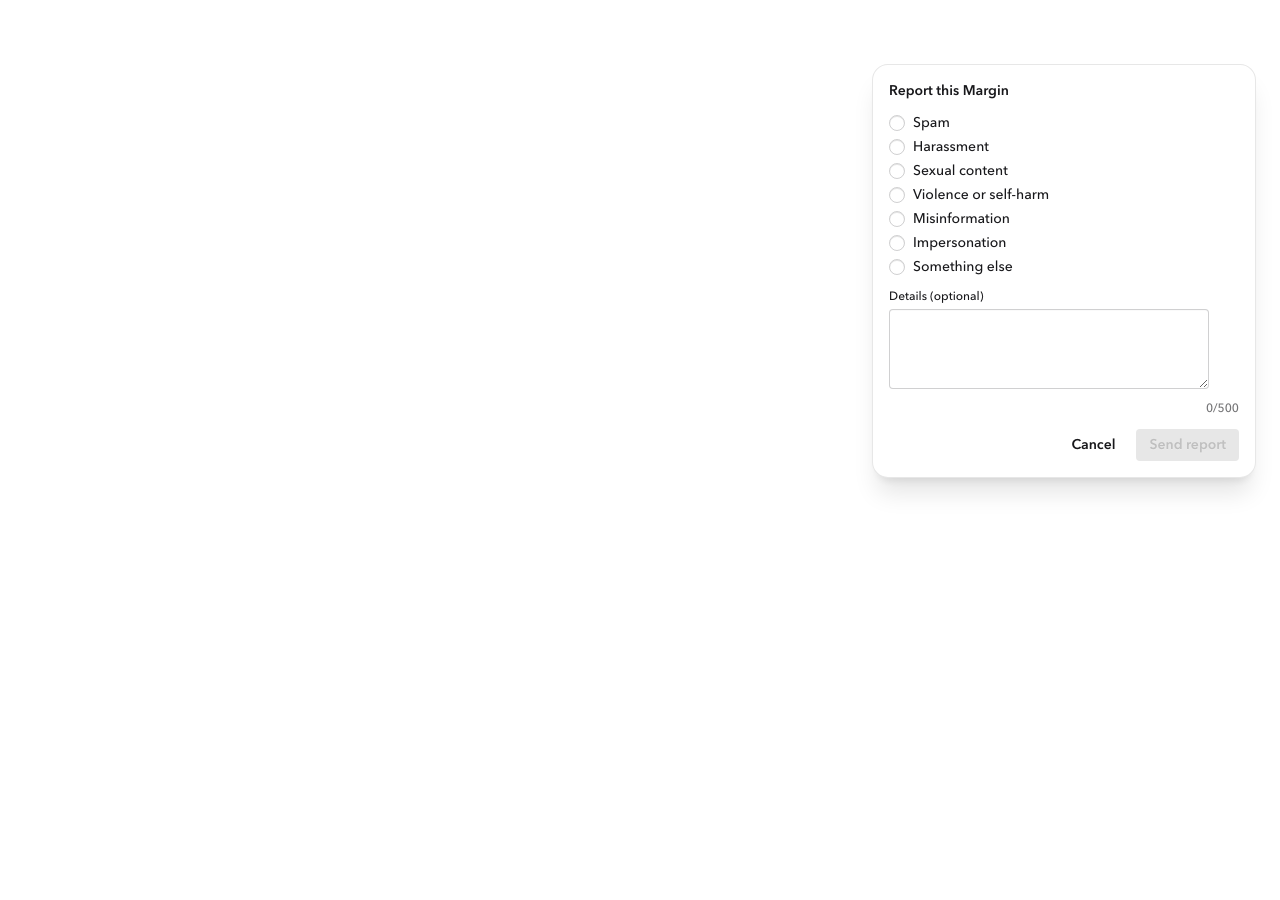
Test: ReportDialog › says when the Margin was already reported
Step 1. Click the radio button labelled "Spam" → (897, 123), box [889,115,905,131]
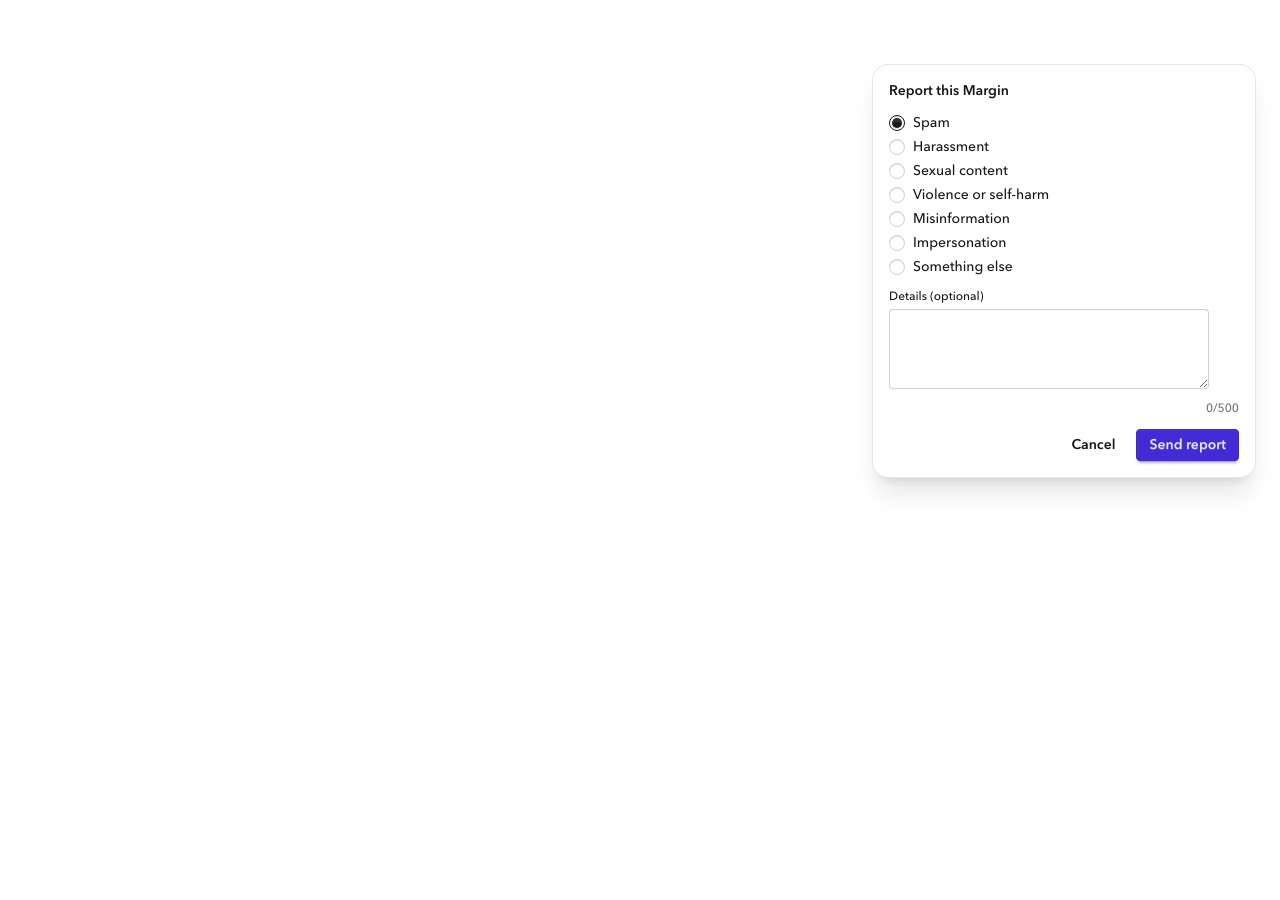
Step 2. Click the button "Send report" → (1188, 445), box [1136,429,1239,461]
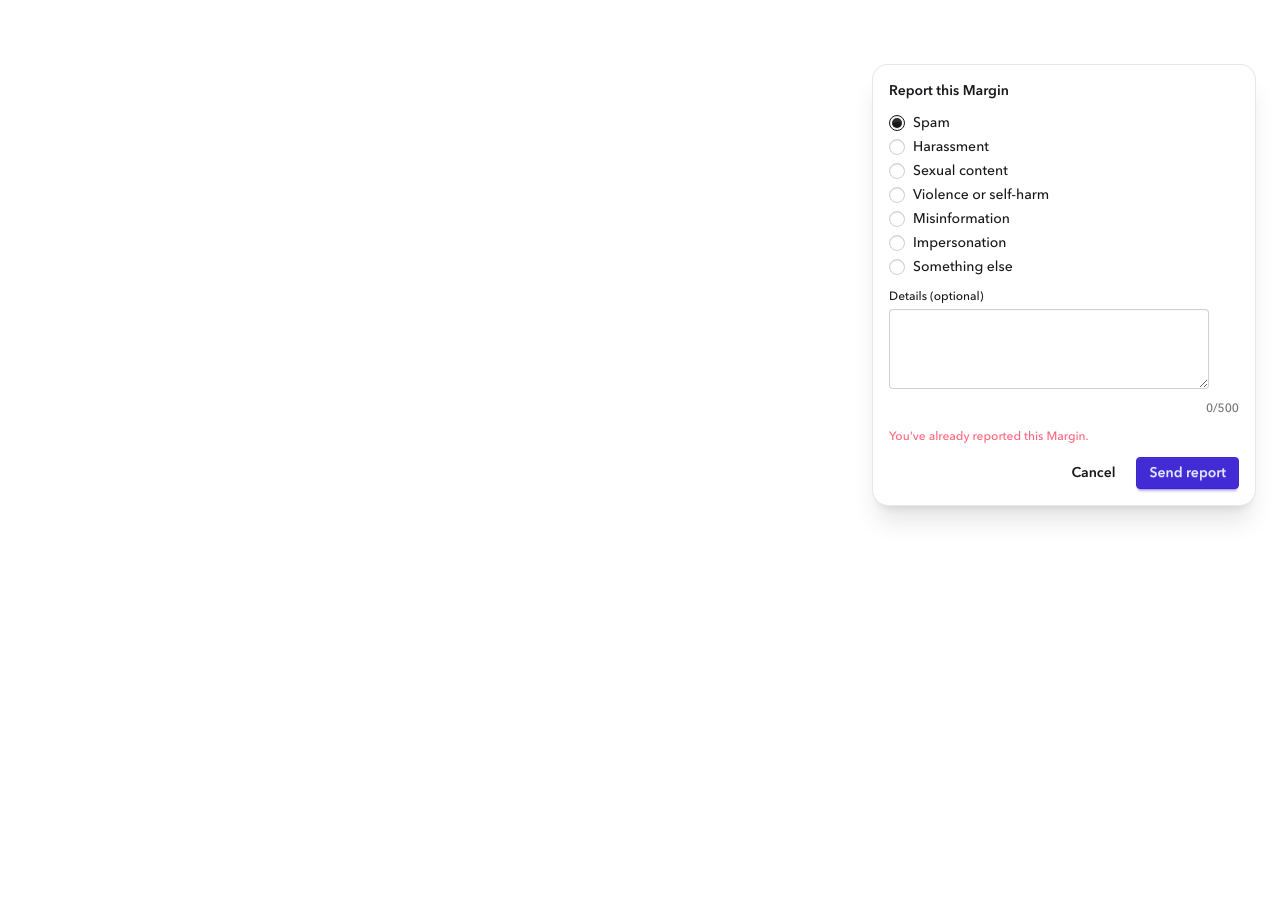
Result: the text "You've already reported this Margin." is shown at [889,431,1089,443]
